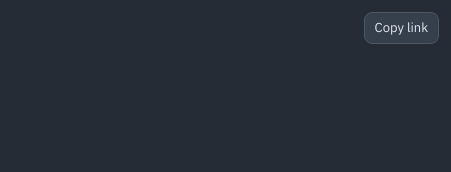
Test case: CopyLinkButton (BOS-2233) › shows the address, selected, when copying fails
Click the button.
click(401, 28)  # box [364,12,439,44]
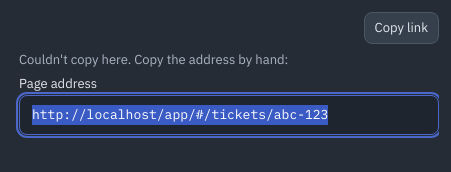
Expected: the text "Couldn't copy here. Copy the address by hand:" is shown, [19,51,288,68]
